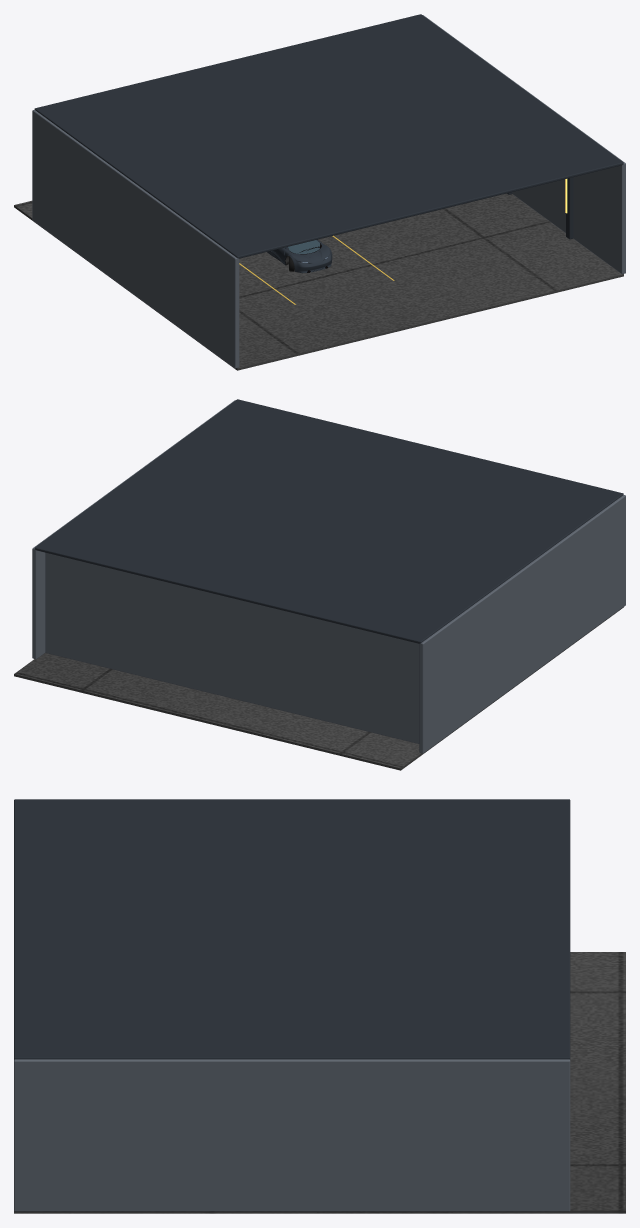
File: guildvault-garage-v1.glb
3 views of the same model, one above another, from view 1: azimuth 30°, elevation 25°; view 2: azimuth 150°, elevation 25°; view 3: azimuth 270°, elevation 25° (orthographic). The views are drawn at different scales.
Visible parts, largest first — view 1: GarageShell, GarageFloor, CarBody; view 2: GarageShell, GarageFloor; view 3: GarageShell, GarageFloor.
Part boxes in pixels (x1,y1,x2,y2): GarageShell: (32,14,625,368); GarageFloor: (14,193,623,370); CarBody: (267,239,332,273); GarageShell: (32,399,625,753); GarageFloor: (14,607,623,770); GarageShell: (14,799,570,1211); GarageFloor: (14,952,625,1213).
Bounding box in the file's own units: 22.25 × 6.2 × 22.
32 materials, 7 textured.
